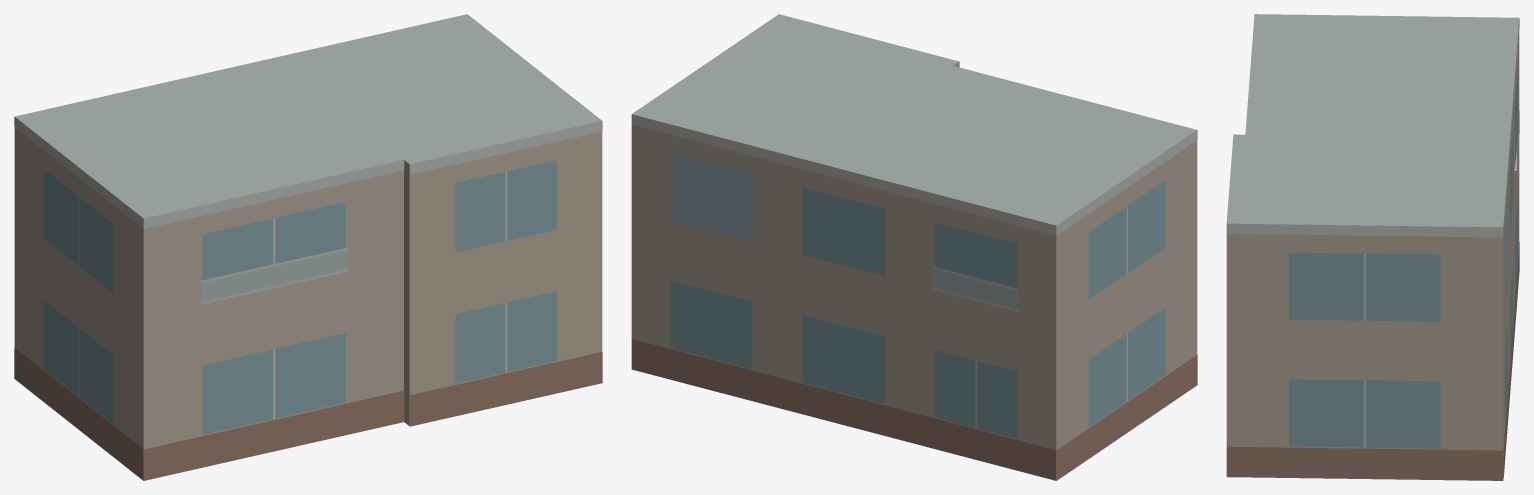
File: survey-upis-32839083.glb
3 renders of one model, left to right at view 1: azimuth 30°, elevation 25°; view 2: azimuth 150°, elevation 25°; view 3: azimuth 270°, elevation 25°, orthographic. The views are drawn at different scales.
Parts seen in each view (by area): view 1: survey-upis-32839083.tmp; view 2: survey-upis-32839083.tmp; view 3: survey-upis-32839083.tmp.
Part boxes in pixels (x1,y1,x2,y2): survey-upis-32839083.tmp: (14, 14, 602, 480); survey-upis-32839083.tmp: (631, 14, 1197, 480); survey-upis-32839083.tmp: (1226, 14, 1519, 480).
Bounding box in the file's own units: 11.03 × 6.1 × 6.4.
